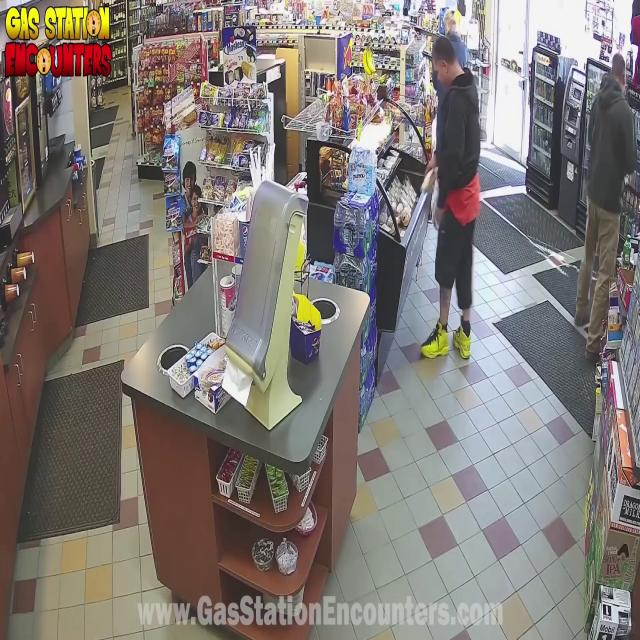Product: (419, 162, 439, 200)
normal: (563, 40, 640, 403)
shoplifting: (407, 32, 501, 385)
